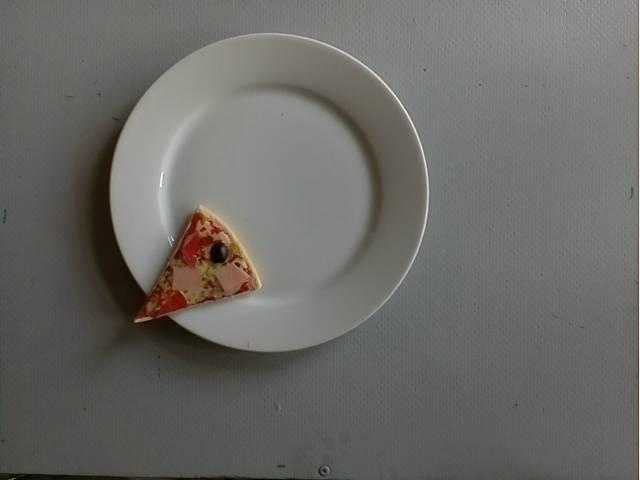Pizza slice (ham): (134, 205, 262, 323)
